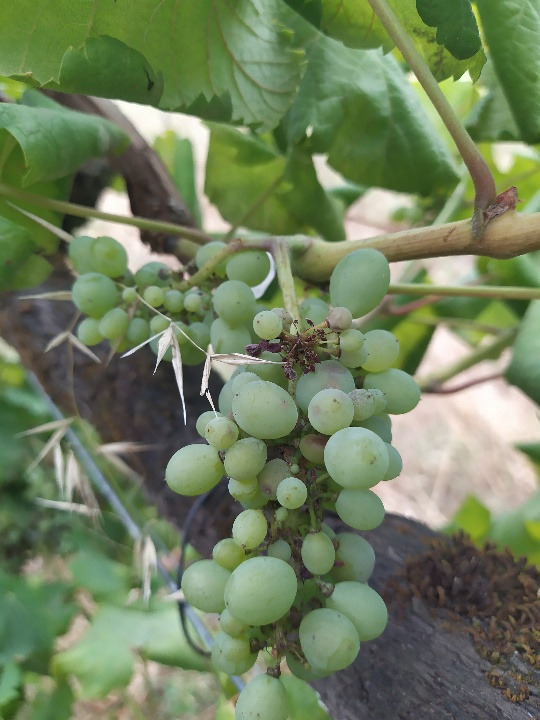grape: (163, 244, 425, 720)
